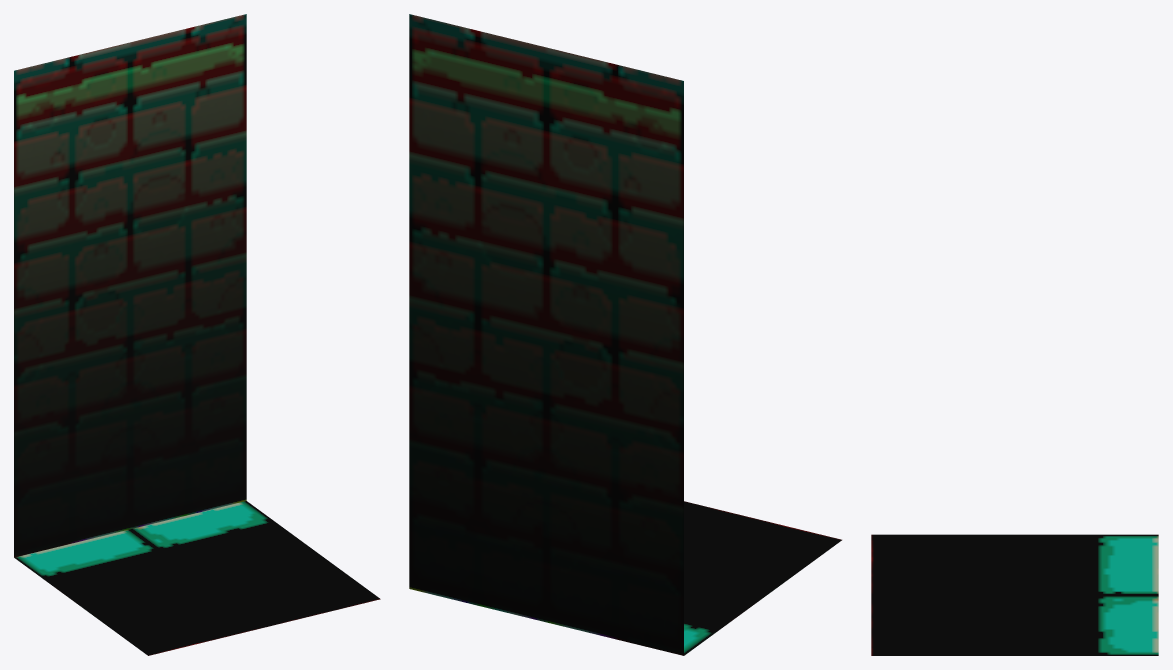
The model's file is arch_cathedral_wallHole_1wall_A.FBX.
The picture shows the model from 3 angles, left to right: view 1: azimuth 30°, elevation 25°; view 2: azimuth 150°, elevation 25°; view 3: azimuth 270°, elevation 25°; orthographic projection. The views are drawn at different scales.
Visible parts, largest first — view 1: arch_cathedral_wallHole_1wall_A; view 2: arch_cathedral_wallHole_1wall_A; view 3: arch_cathedral_wallHole_1wall_A.
Part boxes in pixels (x1=…): arch_cathedral_wallHole_1wall_A: x1=14, y1=14, x2=380, y2=655; arch_cathedral_wallHole_1wall_A: x1=409, y1=14, x2=841, y2=655; arch_cathedral_wallHole_1wall_A: x1=871, y1=534, x2=1158, y2=655.
Bounding box in the file's own units: 2 × 4 × 2.
1 material, 1 textured.
